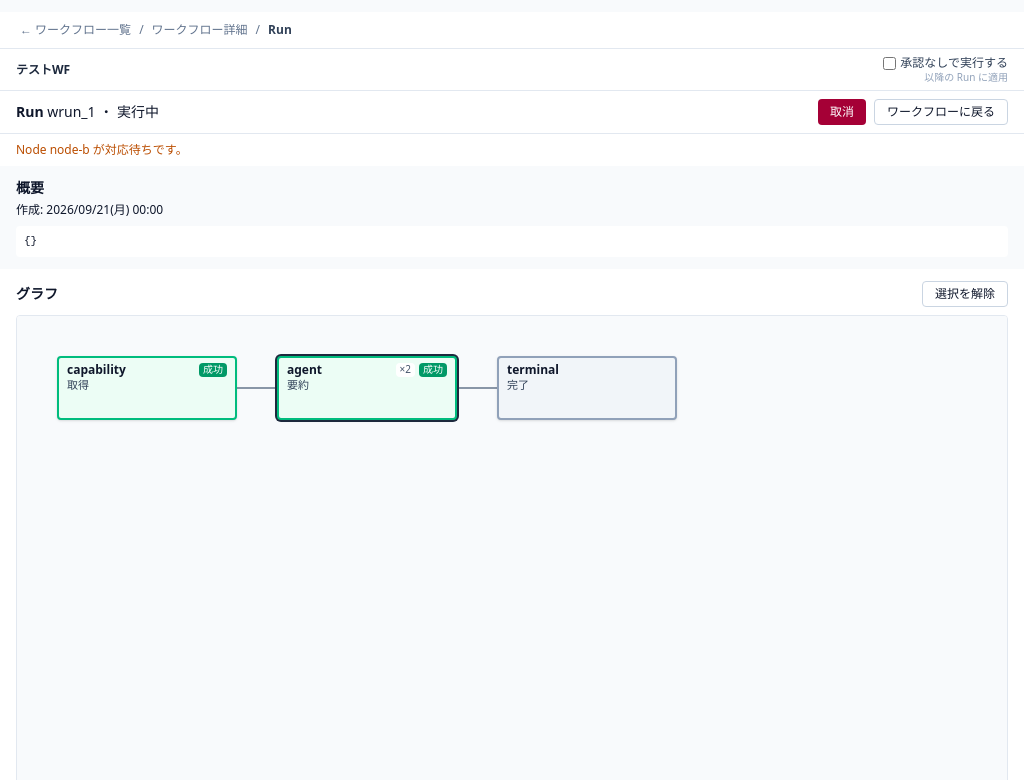
Scenario: WorkflowRunPage run graph › shows an empty state for an unexecuted node and clears the filter
Expected: the element with test id "workflow-canvas" is shown, [16,315,1008,779]
Click the button with test id "workflow-node-node-c" at [587, 388], box [497,356,677,420]
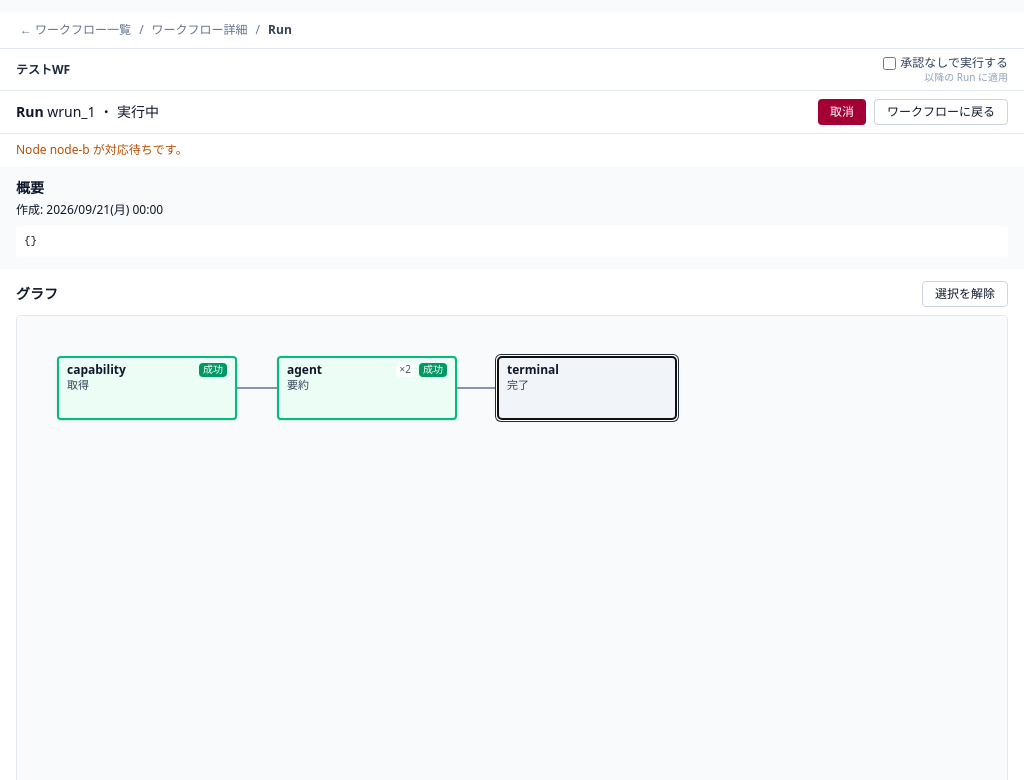
Click the button with test id "run-graph-clear-selection" at [965, 294], box [922,281,1008,307]
(page scrolled)
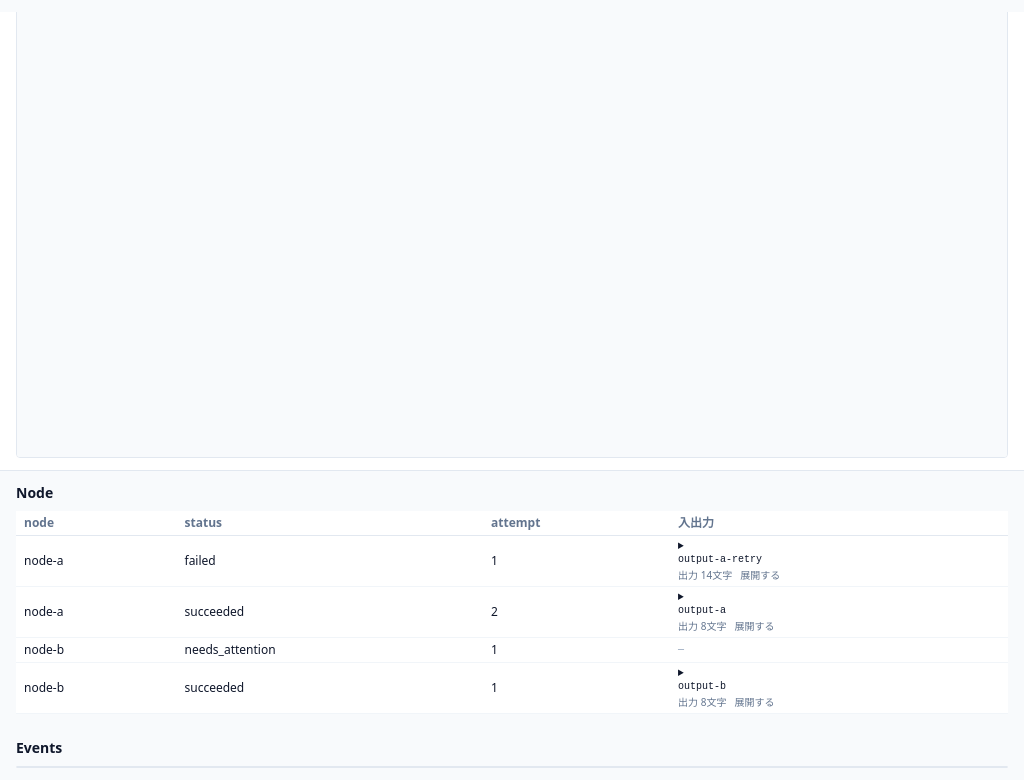
Now the number of rows is 5, box [16,511,1008,536]; [16,536,1008,586]; [16,586,1008,638]; [16,638,1008,662]; [16,662,1008,714]
Now the text "output-a" is shown, box [678,605,726,616]
Now the text "output-b" is shown, box [678,681,726,692]
